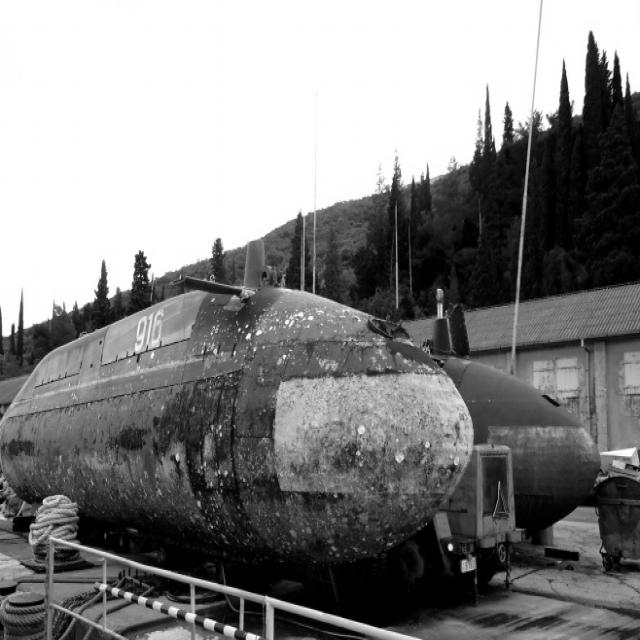submarine: (1, 242, 469, 579), (284, 268, 605, 529)
